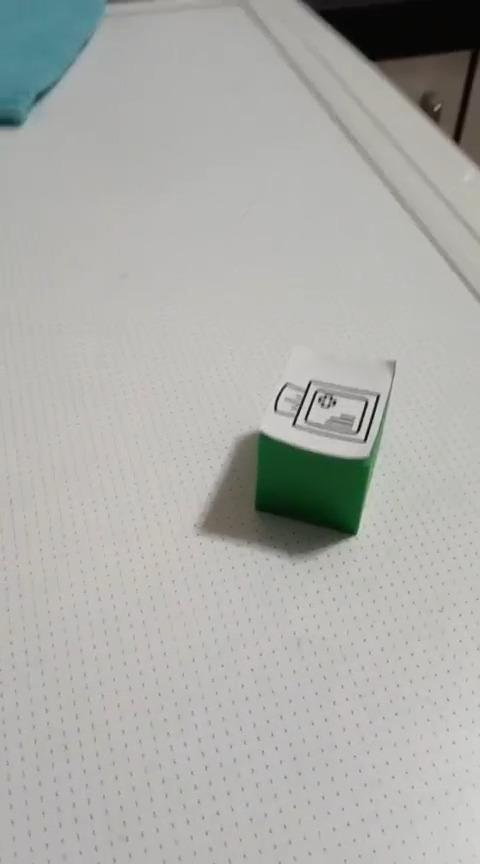Gauze: (253, 344, 396, 536)
